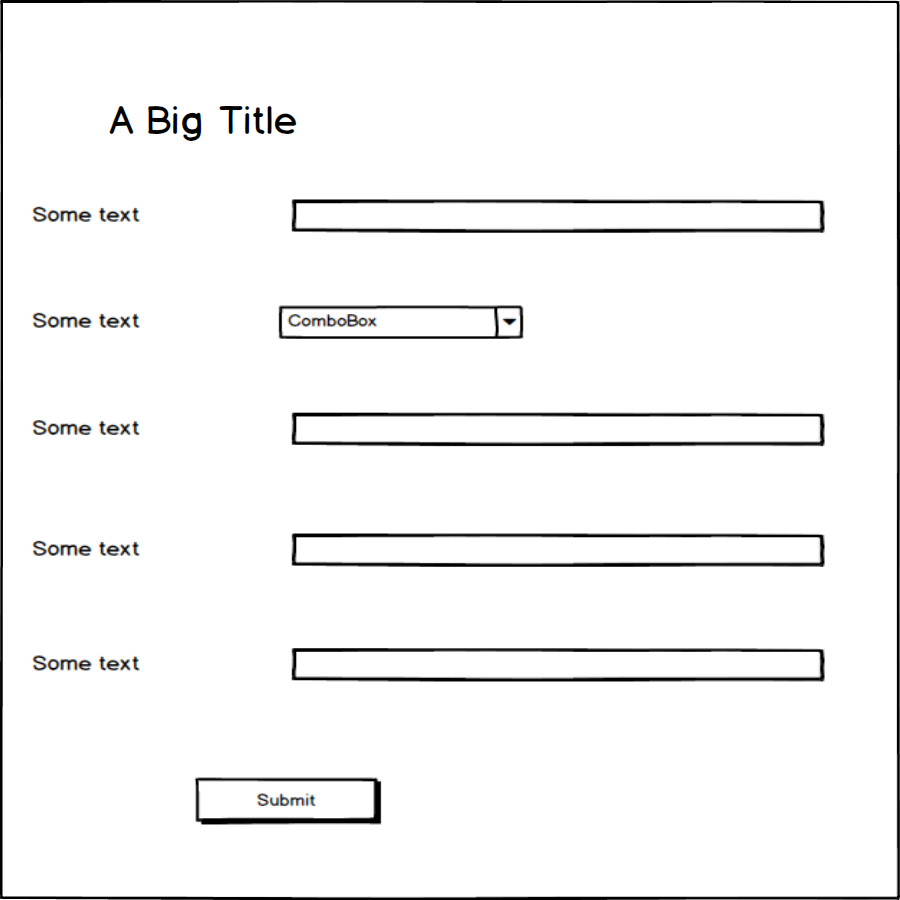button: (189, 770, 387, 830)
h1: (102, 99, 302, 143)
input: (285, 193, 830, 241), (289, 640, 830, 686), (287, 528, 831, 571), (289, 408, 831, 449)
label: (27, 648, 144, 678), (28, 414, 149, 443), (24, 307, 152, 334), (28, 203, 150, 229), (23, 534, 145, 559)
select_box: (274, 299, 527, 345)
